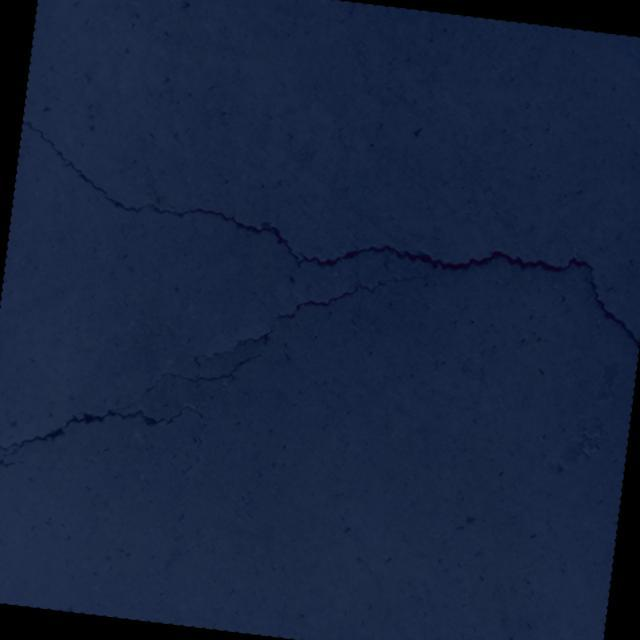crack: (3, 120, 640, 349), (0, 222, 431, 527)
